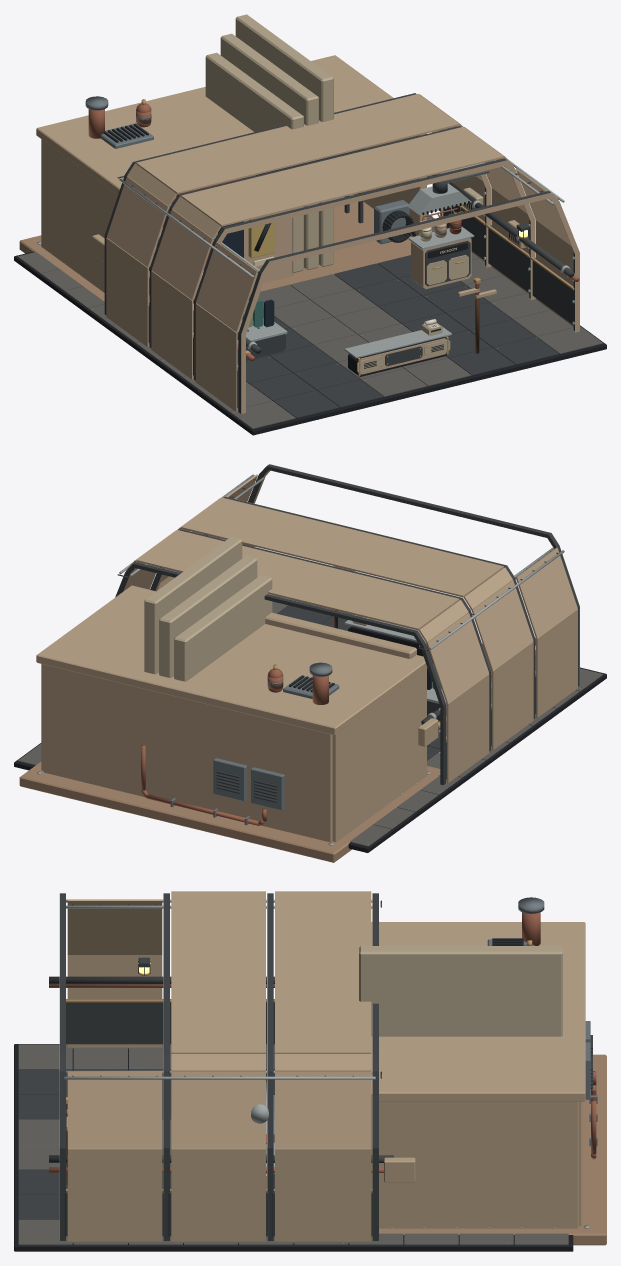
Rendered from dunemoor-livery.glb.
The picture shows the model from 3 angles, top to bottom: view 1: azimuth 30°, elevation 25°; view 2: azimuth 150°, elevation 25°; view 3: azimuth 270°, elevation 25°; orthographic projection. The views are drawn at different scales.
Parts seen in each view (by area): view 1: dunemoor-livery; view 2: dunemoor-livery; view 3: dunemoor-livery.
Boxes of the visible parts, x1,y1,x2,y2 form: dunemoor-livery: (14, 14, 606, 435); dunemoor-livery: (14, 464, 606, 862); dunemoor-livery: (14, 891, 606, 1251).
Bounding box in the file's own units: 17.08 × 9.17 × 21.14.
24 materials, 21 textured.
